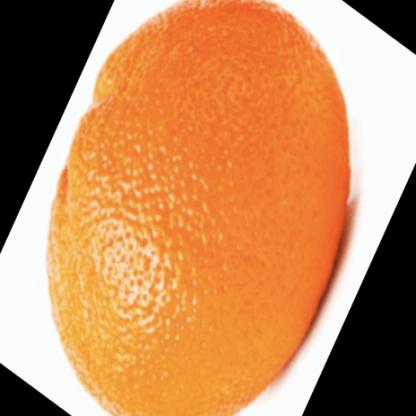fresh: (50, 1, 349, 416)
